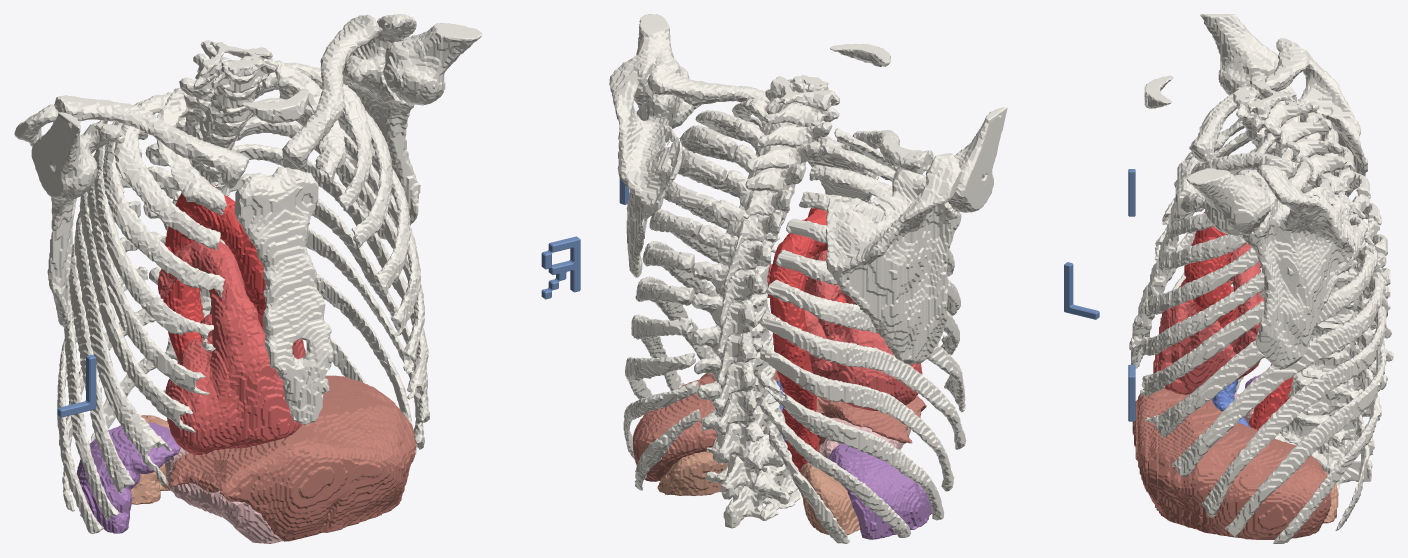
Rendered from chest_mirrored.glb.
3 views of the same model, side by side, from view 1: azimuth 30°, elevation 25°; view 2: azimuth 150°, elevation 25°; view 3: azimuth 270°, elevation 25° (orthographic). The views are drawn at different scales.
Parts seen in each view (by area): view 1: bones, liver, heart, spine, aorta, spleen, stomach, label_R, kidney_left, label_L; view 2: bones, spine, liver, aorta, spleen, heart, kidney_right, kidney_left, label_L, stomach; view 3: bones, liver, spine, heart, aorta, inferior_vena_cava, label_R, label_L.
Part boxes in pixels (x1,y1,x2,y2): bones: [14, 14, 482, 533]; liver: [170, 375, 416, 541]; heart: [158, 241, 305, 454]; spine: [143, 40, 278, 392]; aorta: [163, 185, 265, 360]; spleen: [76, 422, 180, 533]; stomach: [165, 447, 282, 543]; label_R: [541, 236, 580, 299]; kidney_left: [130, 415, 170, 504]; label_L: [57, 354, 96, 417]; bones: [609, 14, 1007, 543]; spine: [690, 75, 839, 528]; liver: [632, 370, 926, 481]; aorta: [769, 208, 846, 472]; spleen: [828, 443, 932, 539]; heart: [767, 250, 922, 410]; kidney_right: [657, 451, 727, 495]; kidney_left: [800, 462, 859, 535]; label_L: [1064, 262, 1099, 319]; stomach: [818, 418, 910, 458]; bones: [1129, 14, 1390, 543]; liver: [1132, 388, 1331, 539]; spine: [1233, 81, 1393, 489]; heart: [1153, 243, 1264, 394]; aorta: [1184, 211, 1292, 430]; inferior_vena_cava: [1212, 379, 1250, 427]; label_R: [1128, 364, 1135, 421]; label_L: [1128, 169, 1135, 216].
Bounding box in the file's own units: 0.4521 × 0.3638 × 0.2302.
